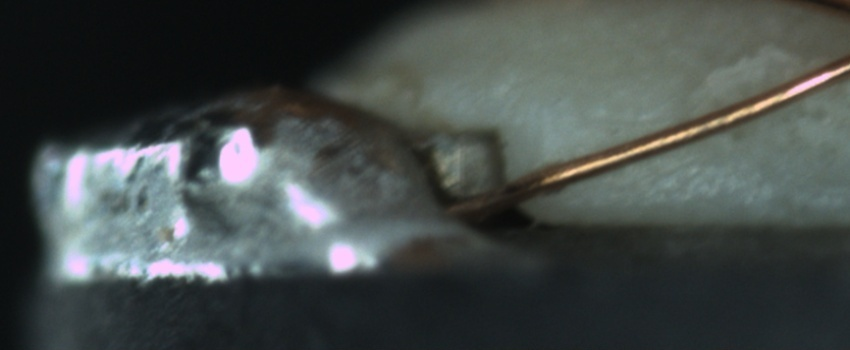DL: (566, 96, 689, 150)
